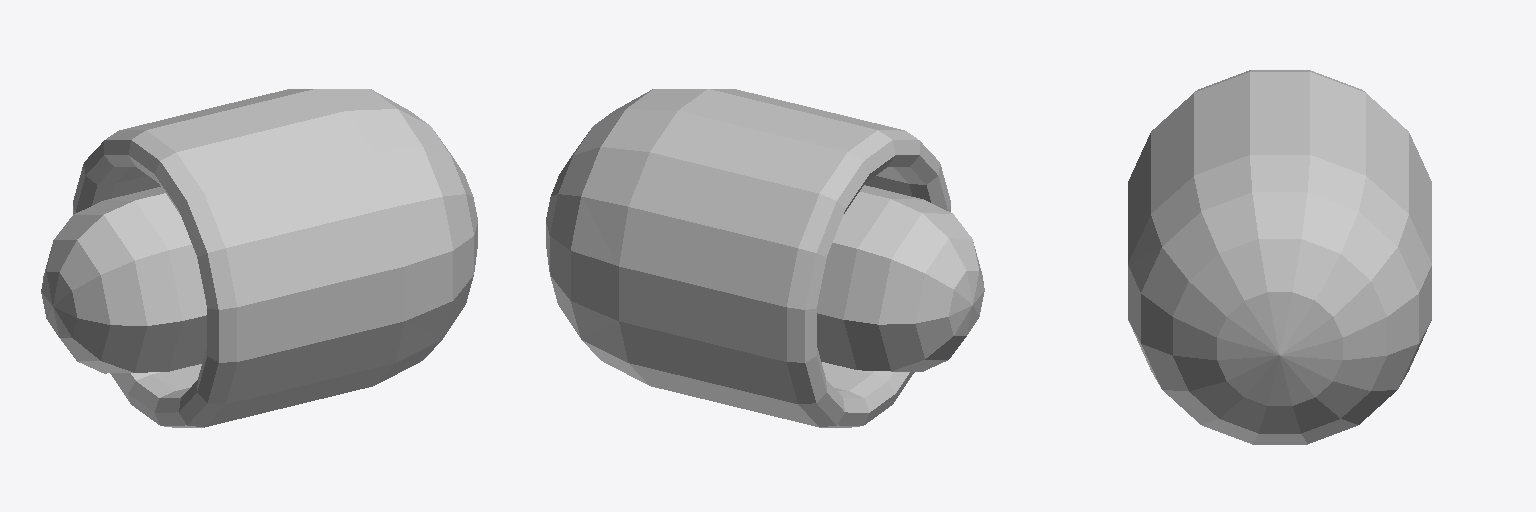
File: hombroIzq.obj
3 renders of one model, left to right at view 1: azimuth 30°, elevation 25°; view 2: azimuth 150°, elevation 25°; view 3: azimuth 270°, elevation 25°, orthographic.
Parts seen in each view (by area): view 1: BalloonBoy.005; view 2: BalloonBoy.005; view 3: BalloonBoy.005.
Part boxes in pixels (left/top/right/bottom): BalloonBoy.005: left=41, top=89, right=477, bottom=427; BalloonBoy.005: left=546, top=89, right=984, bottom=427; BalloonBoy.005: left=1128, top=70, right=1431, bottom=444.
Bounding box in the file's own units: 8.57 × 5.54 × 5.54.